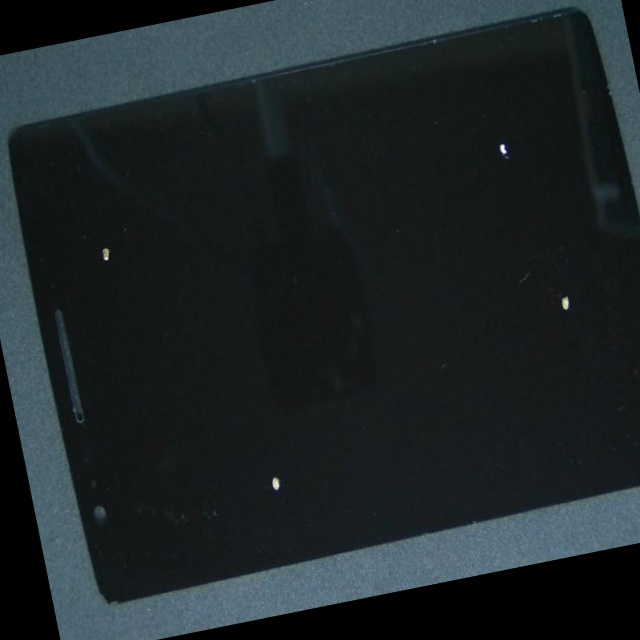stain: (215, 84, 640, 565), (201, 0, 640, 306), (82, 239, 409, 640), (2, 116, 169, 393)
